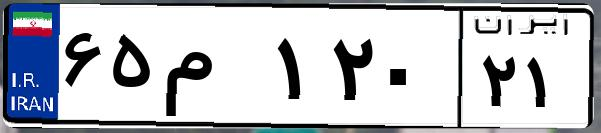0: (385, 28, 445, 110)
1: (270, 28, 330, 110), (525, 38, 570, 115)
2: (330, 28, 385, 110), (475, 38, 525, 113)
5: (110, 28, 158, 98)
6: (57, 26, 110, 100)
م: (158, 20, 270, 120)
